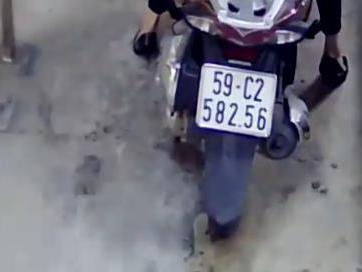num_plate: (193, 62, 278, 140)
